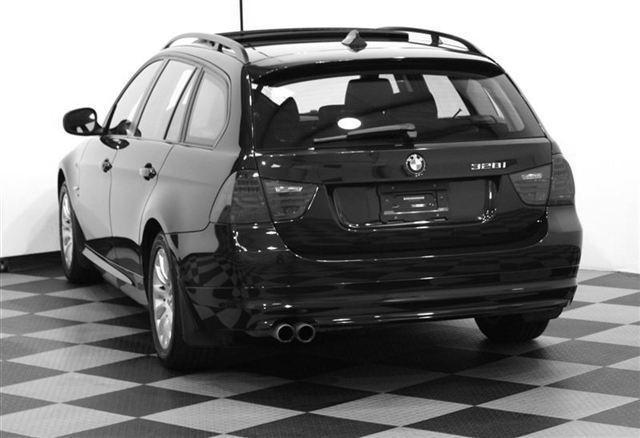car: (58, 1, 582, 373)
